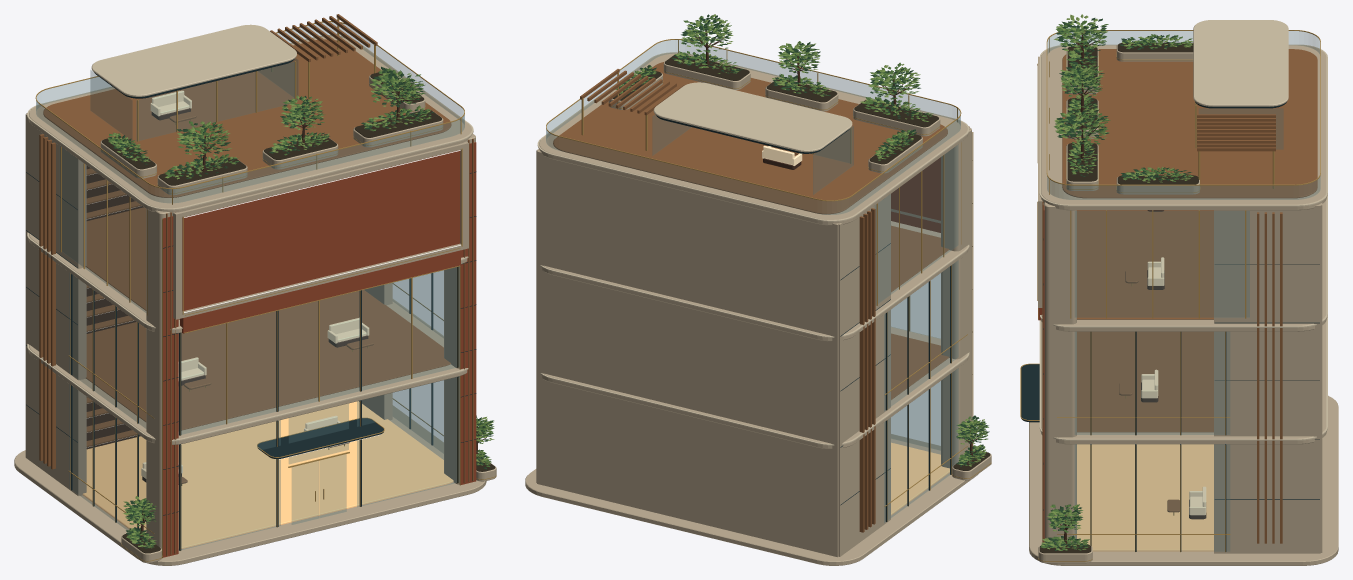
Rendered from vc-retail-country-v1.glb.
3 renders of one model, left to right at view 1: azimuth 30°, elevation 25°; view 2: azimuth 150°, elevation 25°; view 3: azimuth 270°, elevation 25°, orthographic. The views are drawn at different scales.
Parts seen in each view (by area): view 1: VC_Glass, VC_Wood, VC_Stone, VC_Accent, VC_Interior, VC_Stone_Light, VC_Brass, VC_Graphite, VC_Soil, VC_Leaves_Light, VC_Leaves_Shadow, VC_Leaves_Olive (+3 smaller); view 2: VC_Stone, VC_Glass, VC_Wood, VC_Stone_Light, VC_Brass, VC_Soil, VC_Leaves_Olive, VC_Leaves_Shadow, VC_Leaves_Light, VC_Interior, VC_Accent, VC_Graphite (+1 smaller); view 3: VC_Stone, VC_Wood, VC_Glass, VC_Interior, VC_Stone_Light, VC_Brass, VC_Graphite, VC_Leaves_Olive, VC_Leaves_Shadow, VC_Leaves_Light, VC_Soil, VC_Linen (+2 smaller).
Boxes of the visible parts, bbox=[...] form: VC_Glass: bbox=[36, 22, 464, 549]; VC_Wood: bbox=[39, 14, 473, 555]; VC_Stone: bbox=[14, 35, 496, 565]; VC_Accent: bbox=[162, 142, 476, 557]; VC_Interior: bbox=[82, 401, 453, 548]; VC_Stone_Light: bbox=[27, 24, 473, 441]; VC_Brass: bbox=[35, 17, 496, 561]; VC_Graphite: bbox=[26, 58, 476, 550]; VC_Soil: bbox=[101, 72, 495, 553]; VC_Leaves_Light: bbox=[108, 68, 494, 546]; VC_Leaves_Shadow: bbox=[109, 66, 493, 548]; VC_Leaves_Olive: bbox=[108, 68, 494, 548]; VC_Stone: bbox=[525, 52, 991, 565]; VC_Glass: bbox=[546, 40, 960, 522]; VC_Wood: bbox=[553, 62, 969, 532]; VC_Stone_Light: bbox=[537, 52, 969, 445]; VC_Brass: bbox=[546, 39, 991, 521]; VC_Soil: bbox=[612, 53, 990, 470]; VC_Leaves_Olive: bbox=[615, 15, 988, 465]; VC_Leaves_Shadow: bbox=[619, 14, 989, 466]; VC_Leaves_Light: bbox=[619, 14, 987, 466]; VC_Interior: bbox=[891, 442, 949, 515]; VC_Accent: bbox=[891, 157, 940, 232]; VC_Graphite: bbox=[656, 115, 972, 521]; VC_Stone: bbox=[1029, 44, 1338, 565]; VC_Wood: bbox=[1042, 49, 1317, 543]; VC_Glass: bbox=[1047, 31, 1320, 551]; VC_Interior: bbox=[1077, 444, 1213, 551]; VC_Stone_Light: bbox=[1039, 20, 1327, 440]; VC_Brass: bbox=[1020, 30, 1320, 561]; VC_Graphite: bbox=[1021, 102, 1319, 551]; VC_Leaves_Olive: bbox=[1040, 20, 1192, 550]; VC_Leaves_Shadow: bbox=[1040, 18, 1191, 550]; VC_Leaves_Light: bbox=[1041, 14, 1193, 550]; VC_Soil: bbox=[1039, 42, 1198, 553]; VC_Linen: bbox=[1141, 257, 1206, 515].
Bounding box in the file's own units: 27.73 × 29.46 × 20.56.
